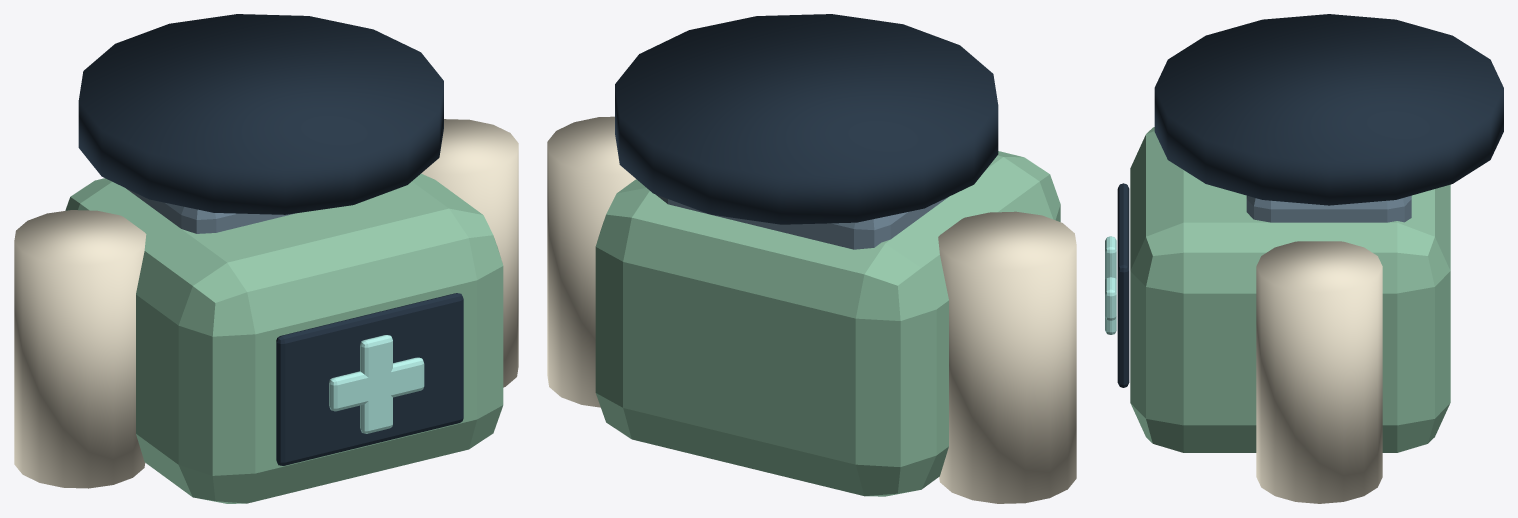
Rendered from support.glb.
The picture shows the model from 3 angles, left to right: view 1: azimuth 30°, elevation 25°; view 2: azimuth 150°, elevation 25°; view 3: azimuth 270°, elevation 25°; orthographic projection. The views are drawn at different scales.
Parts seen in each view (by area): view 1: PitchMesh, supportMesh, YawMesh; view 2: PitchMesh, supportMesh, YawMesh; view 3: PitchMesh, supportMesh, YawMesh.
Boxes of the visible parts, x1,y1,x2,y2 form: PitchMesh: (14, 119, 518, 503); supportMesh: (78, 14, 443, 214); YawMesh: (126, 188, 295, 233); PitchMesh: (547, 116, 1076, 503); supportMesh: (615, 14, 998, 224); YawMesh: (655, 194, 948, 249); PitchMesh: (1105, 127, 1450, 503); supportMesh: (1154, 14, 1503, 205); YawMesh: (1246, 195, 1411, 222).
Bounding box in the file's own units: 0.55 × 0.355 × 0.411.
